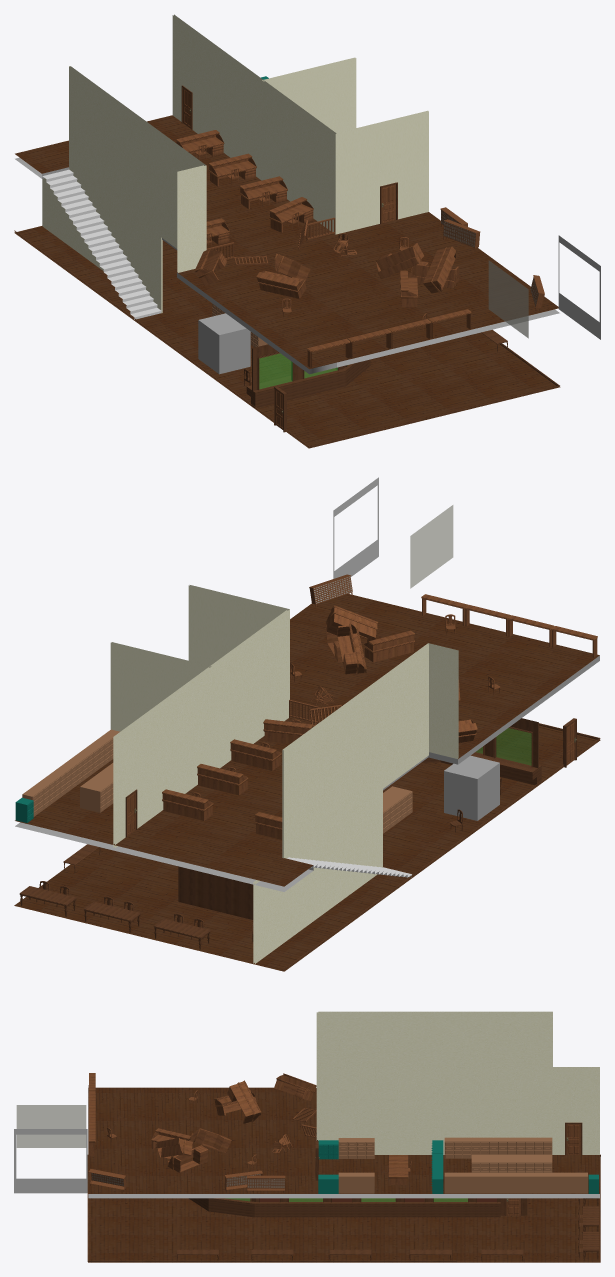
Rendered from EXP2_3.fbx.
The picture shows the model from 3 angles, top to bottom: view 1: azimuth 30°, elevation 25°; view 2: azimuth 150°, elevation 25°; view 3: azimuth 270°, elevation 25°; orthographic projection. The views are drawn at different scales.
Visible parts, largest first — view 1: upstairs_Floor1, pCube472, pPlane10, pCube465, pasted__frontStair_M9, pCube473, pCube471, upstairs_Floor2, overP_Window4, overP_Window, pCube447, tellerTable6 (+14 smaller); view 2: upstairs_Floor1, pCube465, pPlane10, pCube472, pCube473, pCube471, upstairs_Floor2, pCube466, overP_Window4, overP_Window, pCube447, pCube1559 (+14 smaller); view 3: pPlane10, upstairs_Floor1, pCube472, pCube465, overP_Window4, upstairs_Floor2, overP_Window, pCube447, tellerTable1, tellerTable4, tellerTable5, tellerTable7 (+19 smaller).
Boxes of the visible parts, left/top/right/bottom form: upstairs_Floor1: left=15, top=115, right=558, bottom=369; pCube472: left=172, top=14, right=428, bottom=234; pPlane10: left=14, top=226, right=560, bottom=448; pCube465: left=42, top=66, right=206, bottom=313; pasted__frontStair_M9: left=42, top=169, right=162, bottom=319; pCube473: left=262, top=57, right=356, bottom=132; pCube471: left=198, top=313, right=250, bottom=374; upstairs_Floor2: left=15, top=157, right=559, bottom=374; overP_Window4: left=488, top=260, right=528, bottom=338; overP_Window: left=489, top=261, right=528, bottom=337; pCube447: left=558, top=235, right=600, bottom=339; tellerTable6: left=246, top=376, right=300, bottom=408; upstairs_Floor1: left=15, top=594, right=599, bottom=886; pCube465: left=253, top=643, right=458, bottom=964; pPlane10: left=14, top=725, right=600, bottom=971; pCube472: left=113, top=585, right=289, bottom=847; pCube473: left=110, top=642, right=211, bottom=731; pCube471: left=444, top=755, right=499, bottom=820; upstairs_Floor2: left=15, top=655, right=599, bottom=891; pCube466: left=179, top=867, right=253, bottom=919; overP_Window4: left=410, top=505, right=453, bottom=588; overP_Window: left=410, top=505, right=452, bottom=587; pCube447: left=333, top=477, right=378, bottom=578; pCube1559: left=230, top=739, right=281, bottom=770; pPlane10: left=88, top=1156, right=600, bottom=1262; upstairs_Floor1: left=88, top=1087, right=599, bottom=1193; pCube472: left=316, top=1067, right=599, bottom=1154; pCube465: left=316, top=1011, right=552, bottom=1066; overP_Window4: left=16, top=1105, right=86, bottom=1147; upstairs_Floor2: left=88, top=1194, right=599, bottom=1198; overP_Window: left=17, top=1105, right=85, bottom=1147; pCube447: left=14, top=1129, right=87, bottom=1193; tellerTable1: left=428, top=1198, right=473, bottom=1217; tellerTable4: left=355, top=1198, right=400, bottom=1217; tellerTable5: left=283, top=1198, right=328, bottom=1217; tellerTable7: left=208, top=1198, right=255, bottom=1217.
Size of the model in its own units: 169 by 115 by 389.
